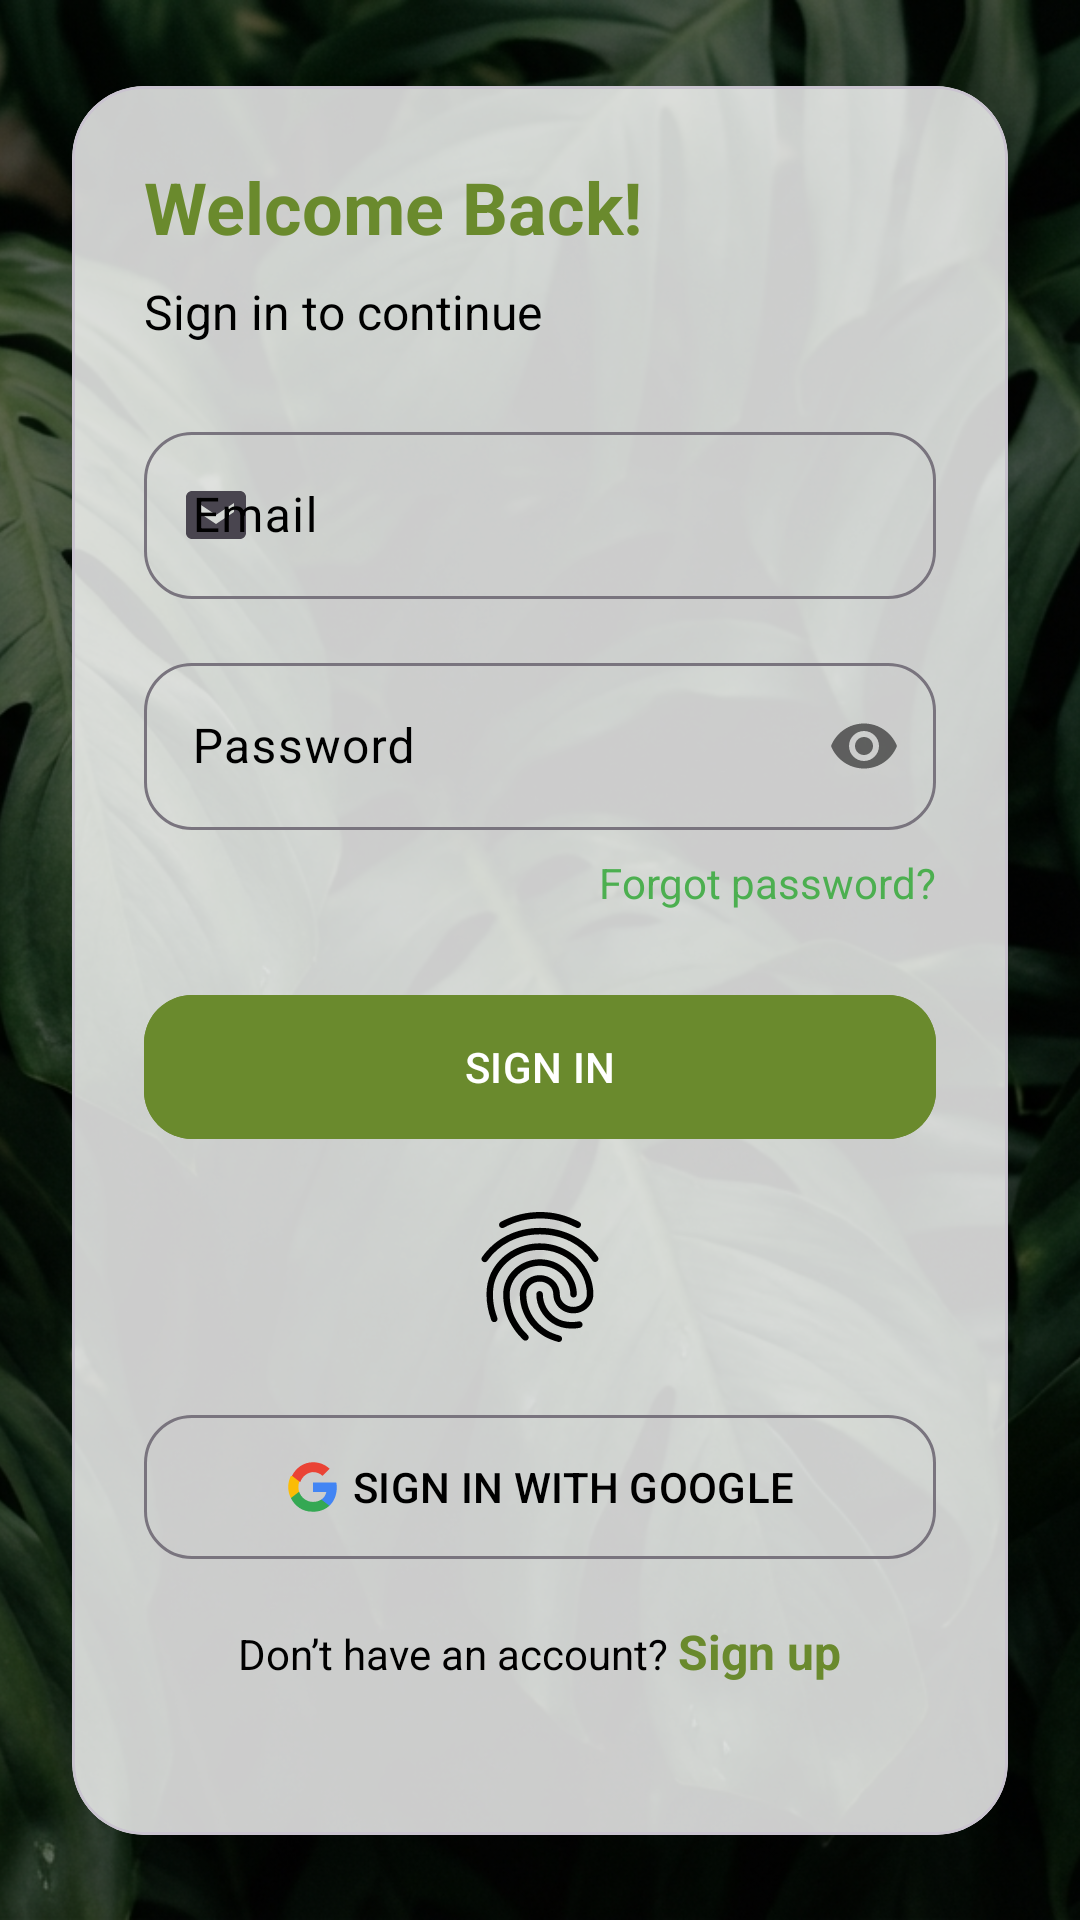

Named icons in this screenshot (1080px×1920px) and their centers, (x=x, y=y):
Fingerprint: (x=540, y=1277)
